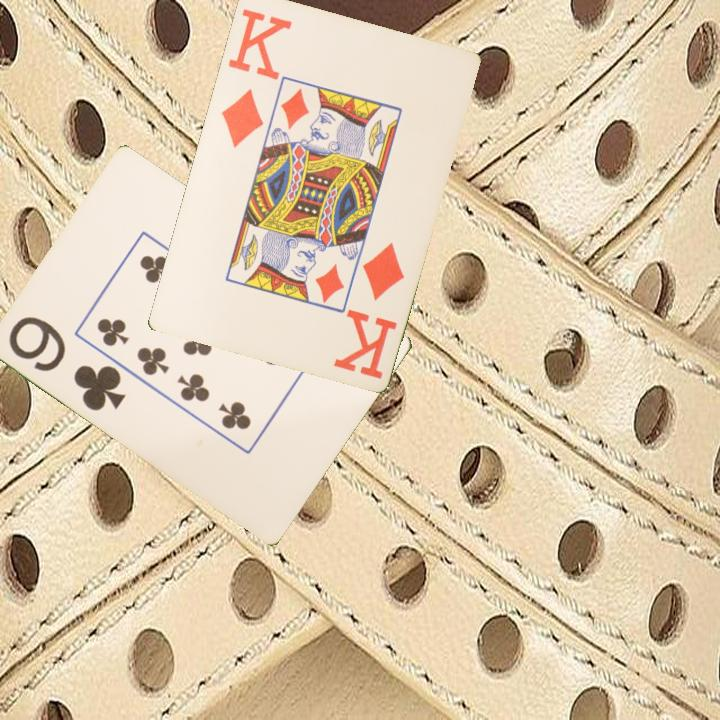9c: (5, 312, 129, 415)
Kd: (217, 4, 295, 150), (331, 238, 407, 382)
